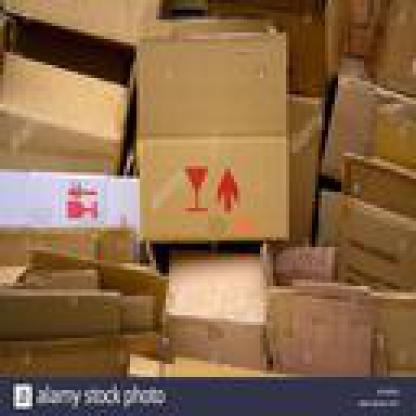CARDBOARD: (0, 0, 414, 371), (134, 91, 318, 241), (130, 13, 286, 133), (0, 48, 133, 166), (257, 276, 413, 374), (160, 240, 266, 367), (204, 0, 332, 98), (332, 150, 413, 296), (315, 69, 413, 186), (0, 162, 137, 244), (266, 280, 380, 374), (0, 0, 159, 52), (0, 237, 150, 292), (0, 325, 166, 374), (6, 244, 160, 292), (0, 283, 120, 335), (361, 0, 413, 98), (169, 348, 263, 374), (280, 237, 332, 283), (338, 0, 370, 55), (17, 266, 98, 286), (124, 290, 156, 328), (315, 182, 335, 240)
